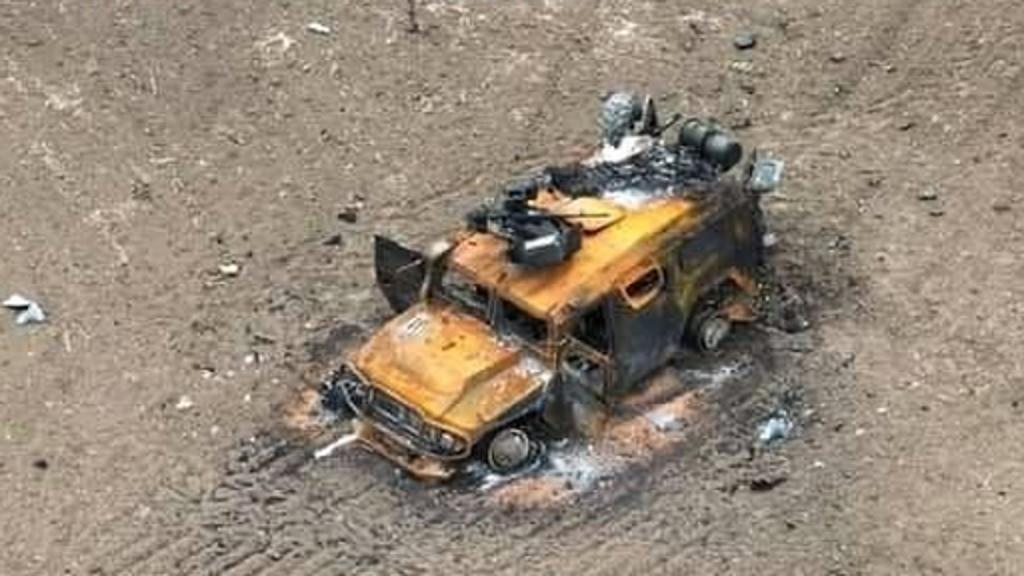CAR: (340, 92, 770, 476)
